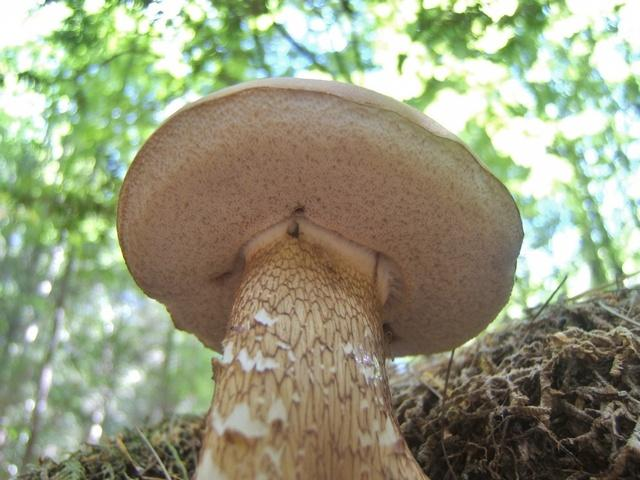Non-edible Mushroom: (114, 75, 525, 478)
